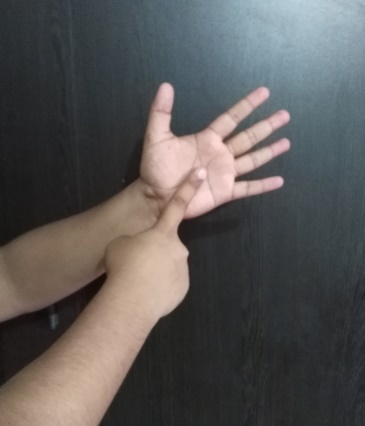oo: (101, 81, 291, 283)
